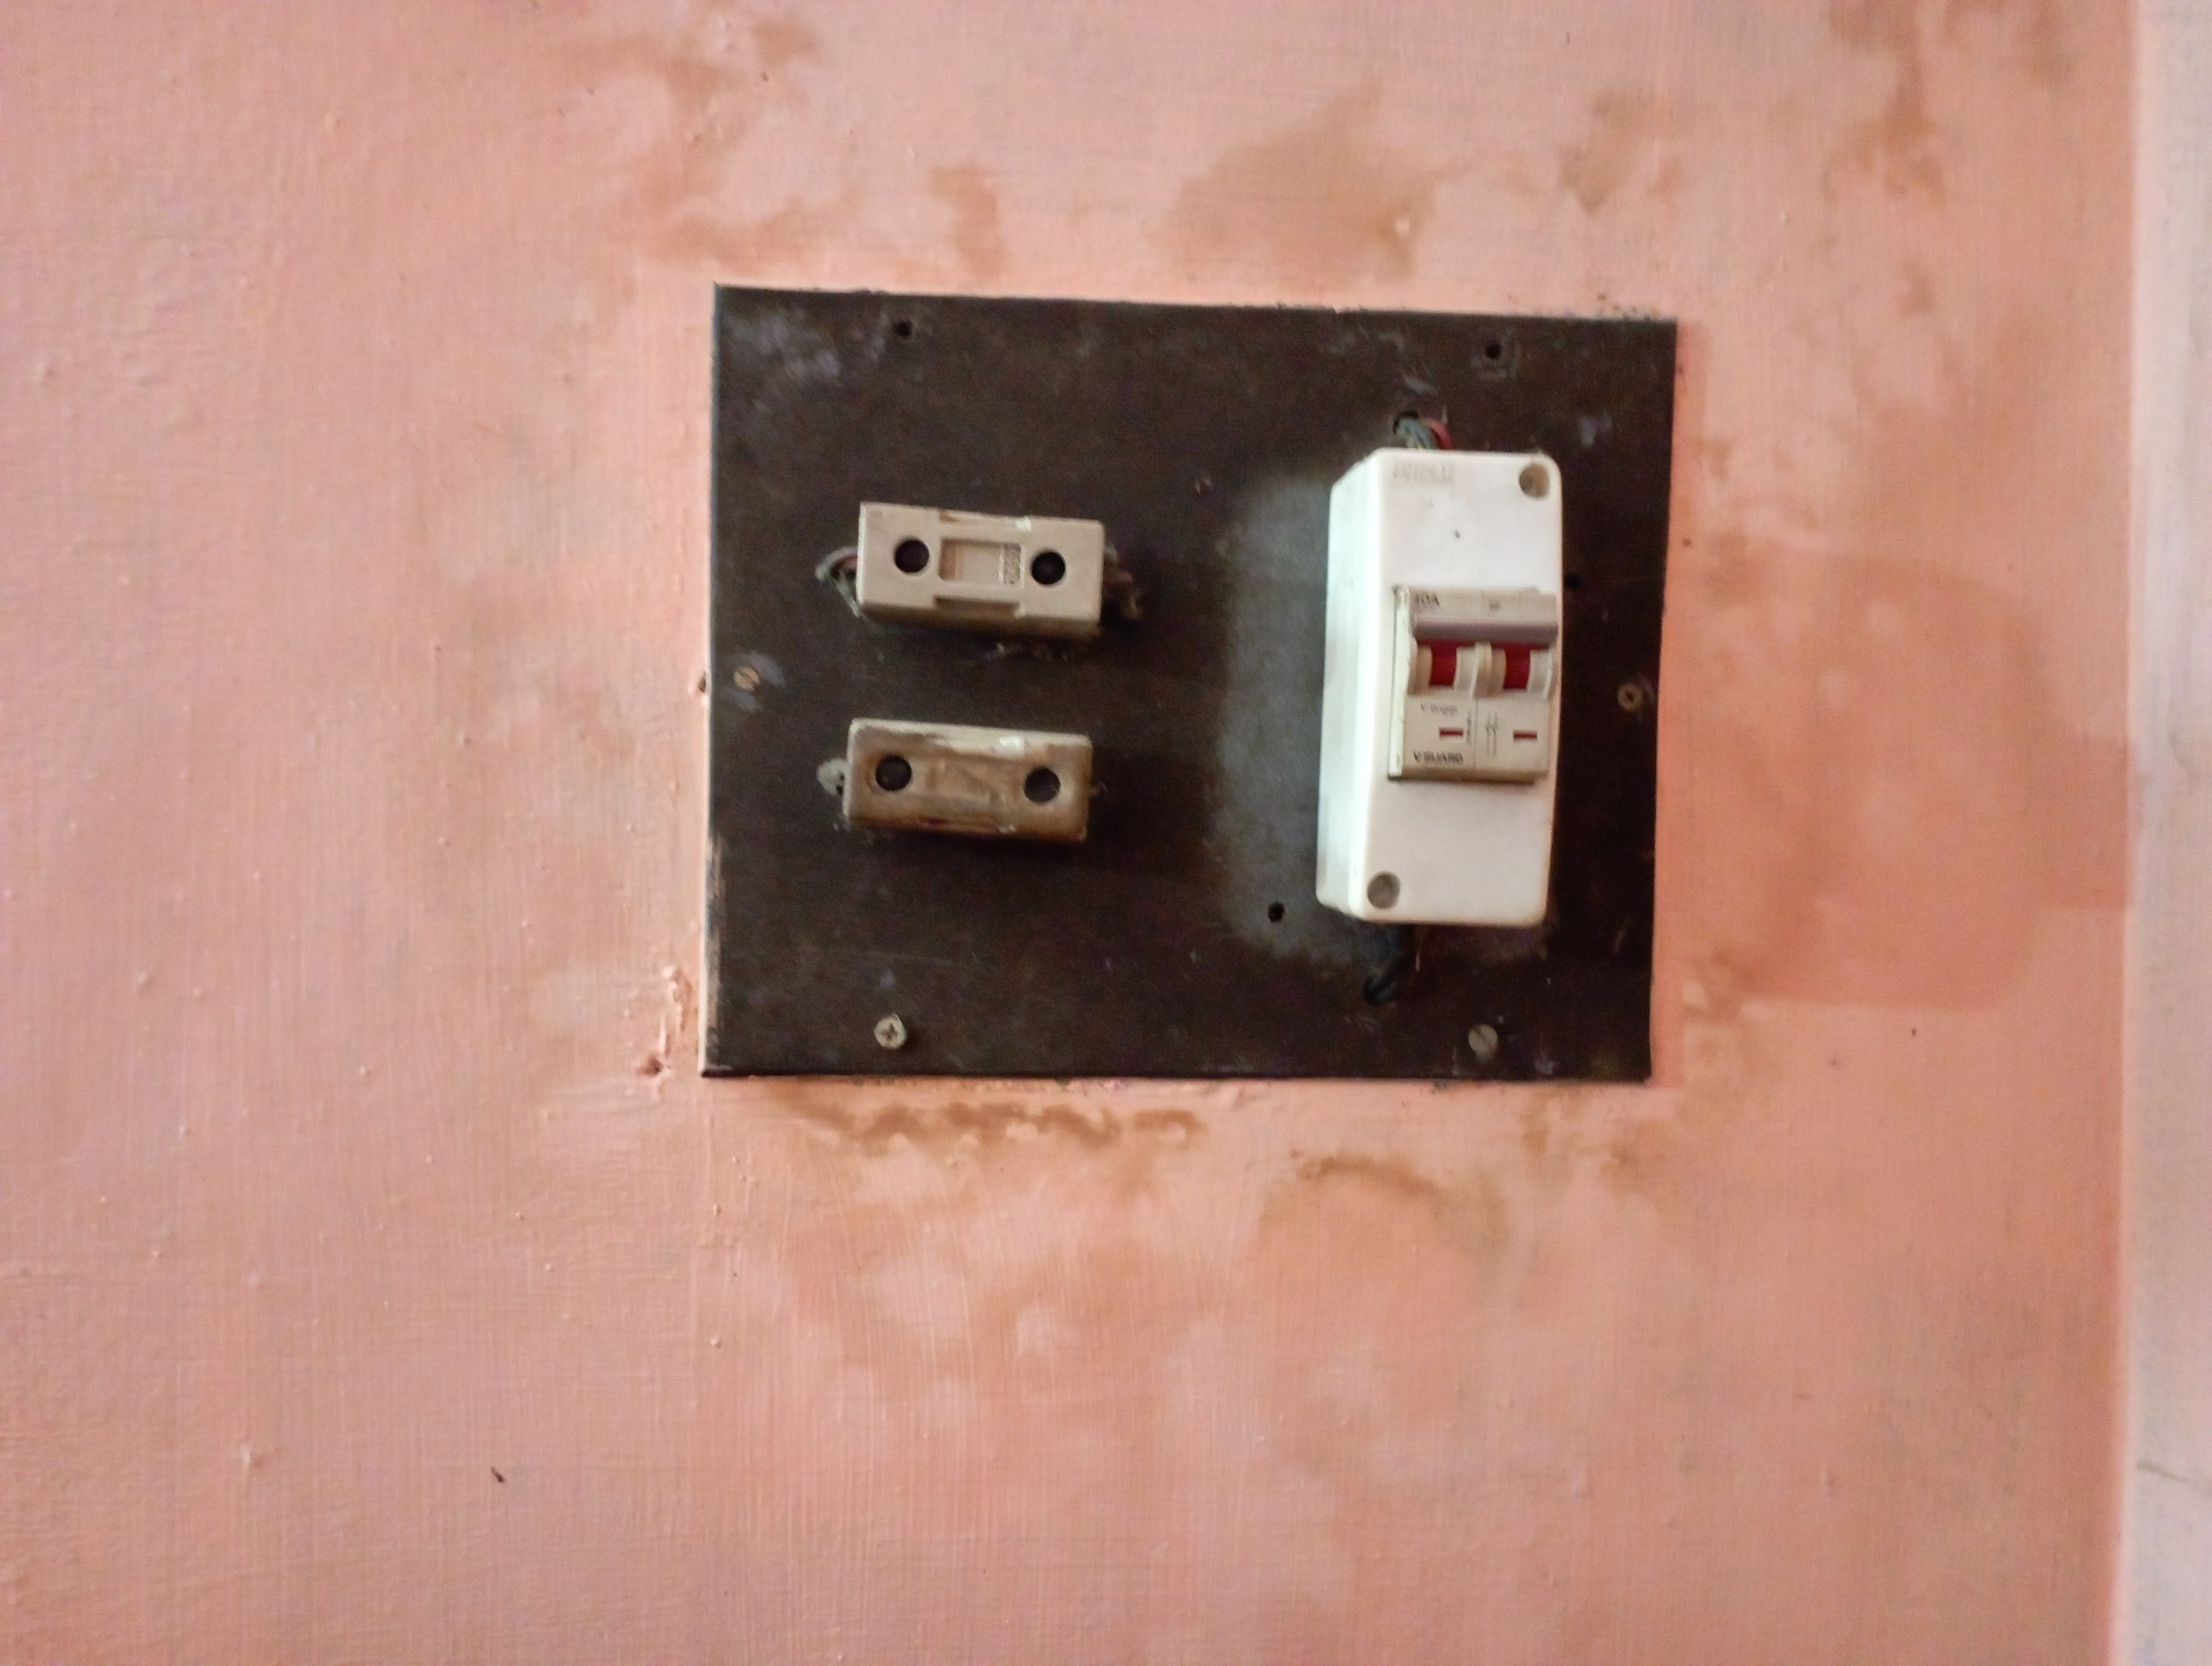ciruit_breaker: (1299, 441, 1577, 949)
fuse: (822, 497, 1131, 639), (829, 714, 1117, 856)
